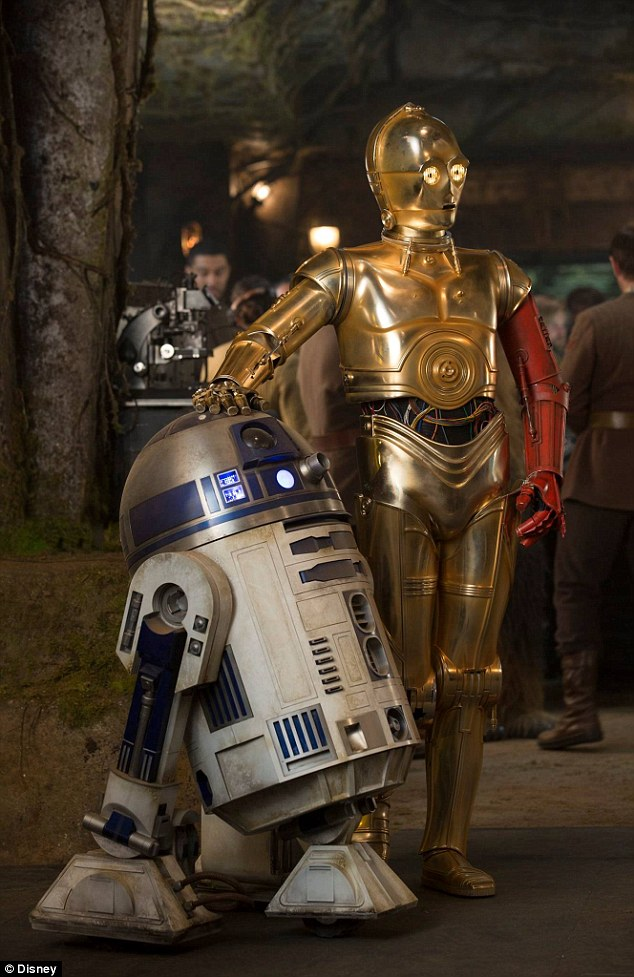r2d2: (30, 401, 419, 943)
